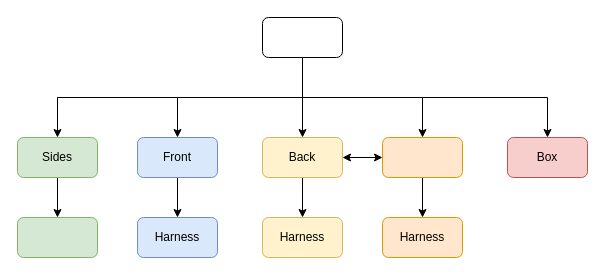
Some shapes in this 605 by 275 pixel diagram are drawn without their labels. Each missing label, with the centre of its shape:
"Elbows" belongs at point (422, 157).
"Mummy" belongs at point (57, 237).
"Unbound" belongs at point (302, 37).
